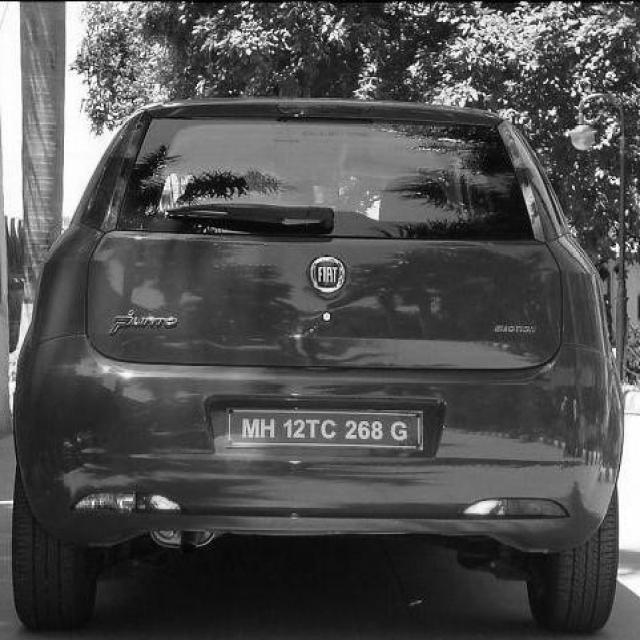car: (9, 77, 630, 636)
license-plate: (226, 404, 430, 458)
